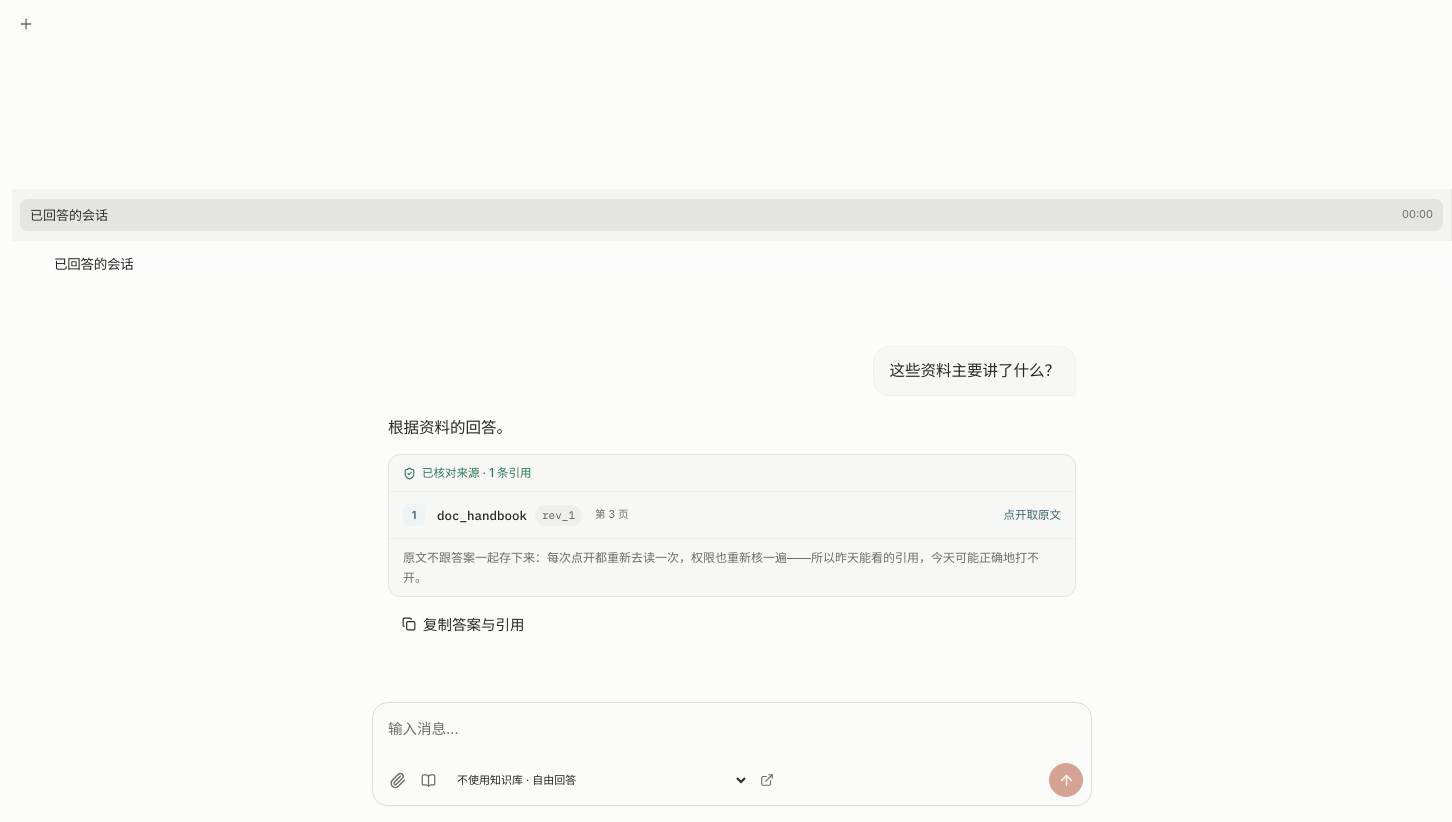
Test case: Opening the passage behind a citation › fetches it through the turn, and shows the stored text
Step 1. Click the button "doc_handbook rev_1 第 3 页 点开取原文" → point(482, 515), box [437,504,1061,526]
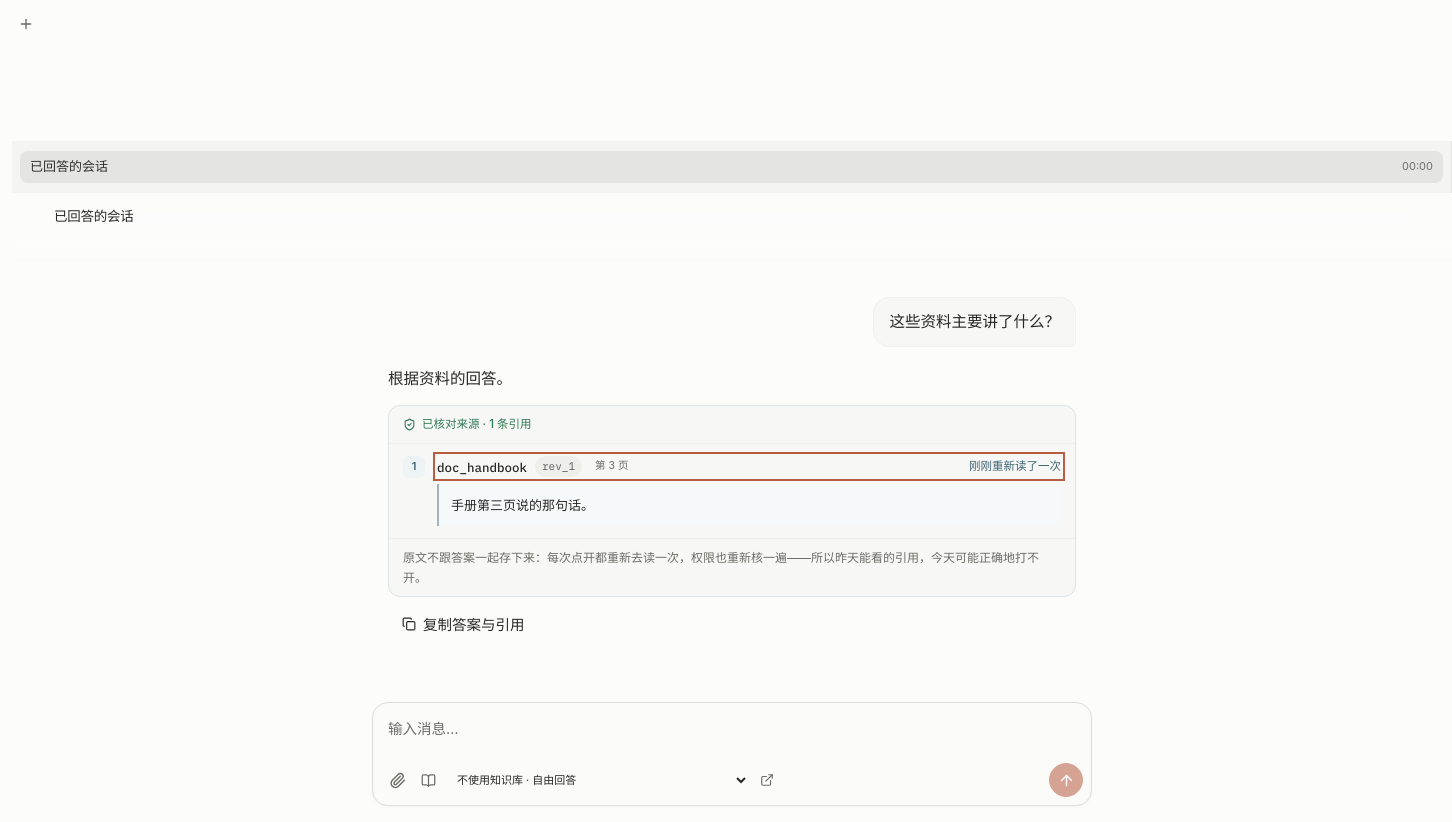
Check: the text "手册第三页说的那句话。" is shown, box [437,484,1061,526]
